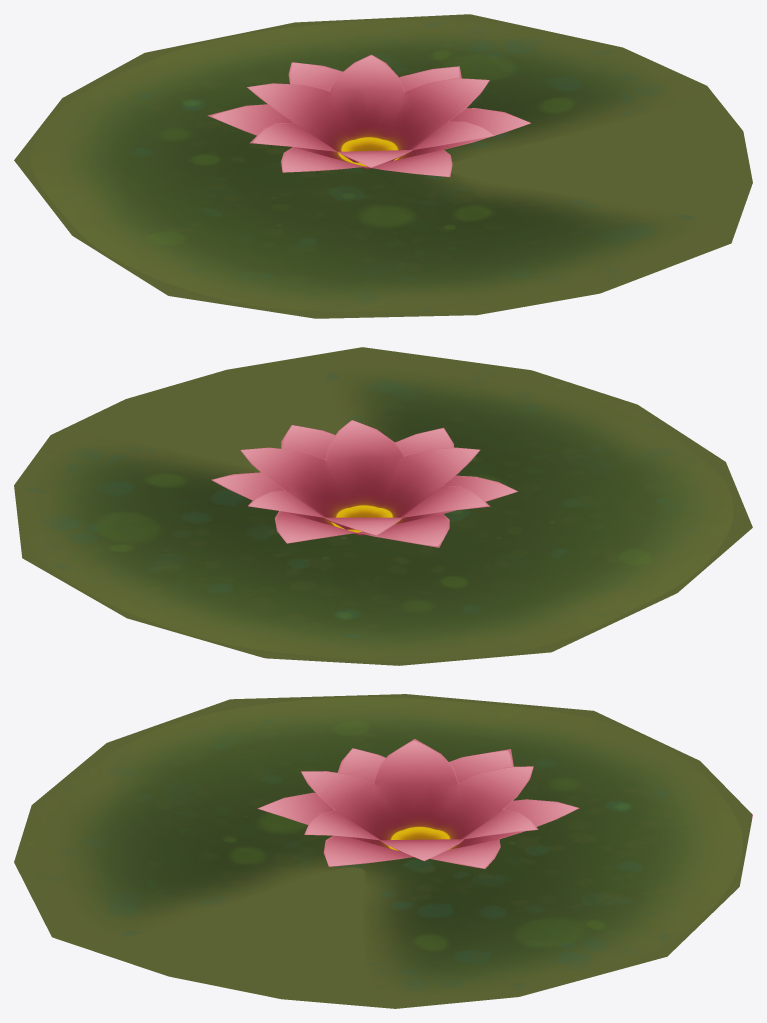
The model's file is SM_Lily_Pad_w_Flower.fbx.
3 views of the same model, one above another, from view 1: azimuth 30°, elevation 25°; view 2: azimuth 150°, elevation 25°; view 3: azimuth 270°, elevation 25° (orthographic). The views are drawn at different scales.
Visible parts, largest first — view 1: SM_Lily_Pad_w_Flower_LOD0; view 2: SM_Lily_Pad_w_Flower_LOD0; view 3: SM_Lily_Pad_w_Flower_LOD0.
Boxes of the visible parts, <box> form: SM_Lily_Pad_w_Flower_LOD0: <box>14,14,752,318</box>; SM_Lily_Pad_w_Flower_LOD0: <box>14,347,752,665</box>; SM_Lily_Pad_w_Flower_LOD0: <box>14,694,752,1008</box>.
Size of the model in its own units: 80.19 by 79.53 by 5.48.
1 material, 1 textured.
